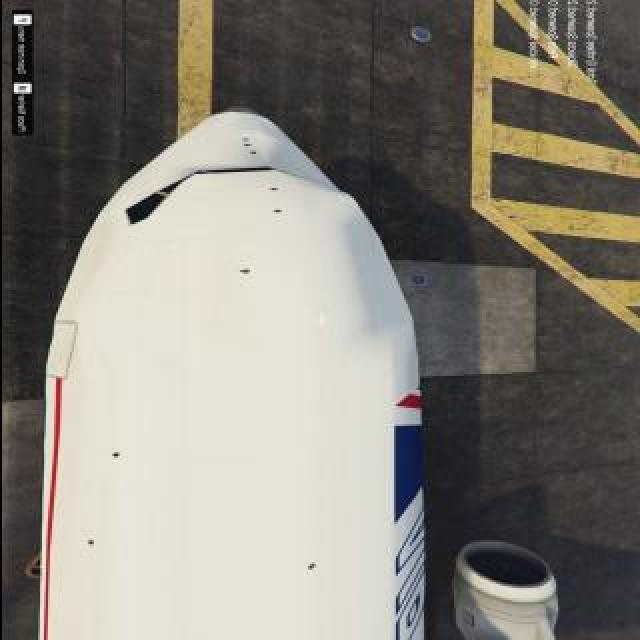crack: (107, 450, 123, 462), (305, 561, 317, 573), (236, 269, 252, 277), (83, 539, 97, 547), (270, 209, 286, 215), (267, 188, 281, 192), (250, 150, 258, 156), (240, 144, 252, 148), (239, 138, 251, 142)
